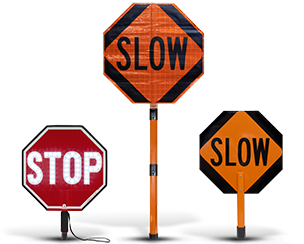stopsign: (21, 125, 109, 211)
